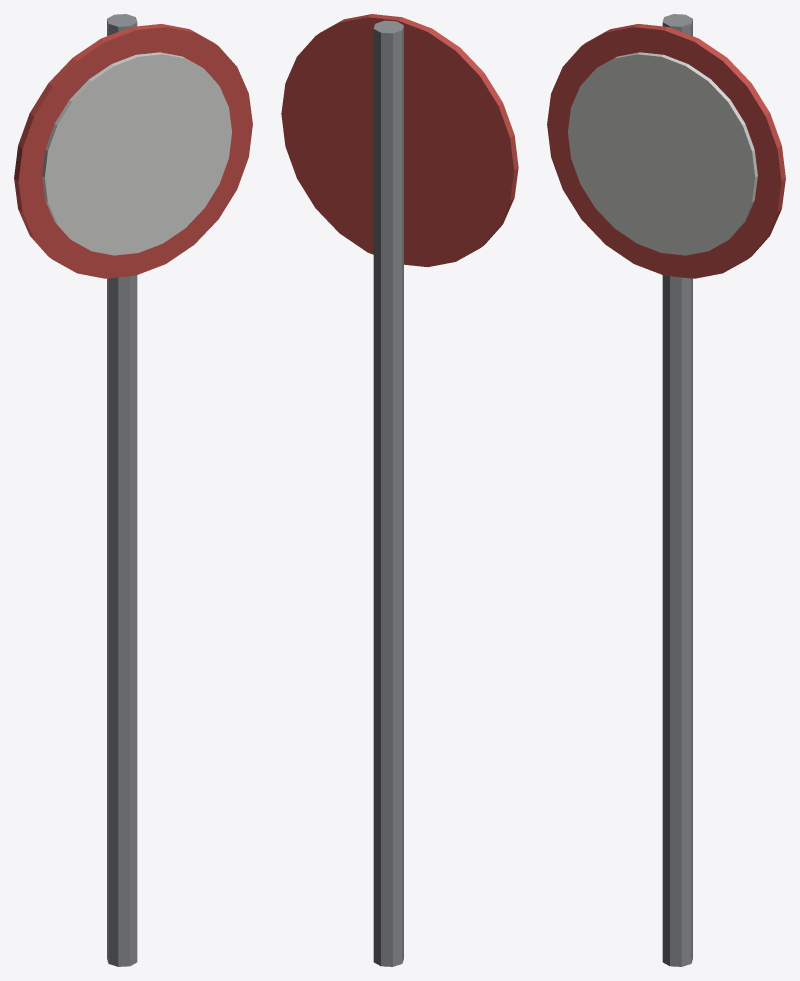
File: sign-stvo.glb
3 views of the same model, side by side, from view 1: azimuth 30°, elevation 25°; view 2: azimuth 150°, elevation 25°; view 3: azimuth 330°, elevation 25° (orthographic).
Parts seen in each view (by area): view 1: sign-stvo; view 2: sign-stvo; view 3: sign-stvo.
Part boxes in pixels (left/top/right/bottom): sign-stvo: left=14, top=14, right=252, bottom=966; sign-stvo: left=281, top=14, right=518, bottom=966; sign-stvo: left=547, top=14, right=785, bottom=966.
Bounding box in the file's own units: 0.6001 × 2.3 × 0.107.
